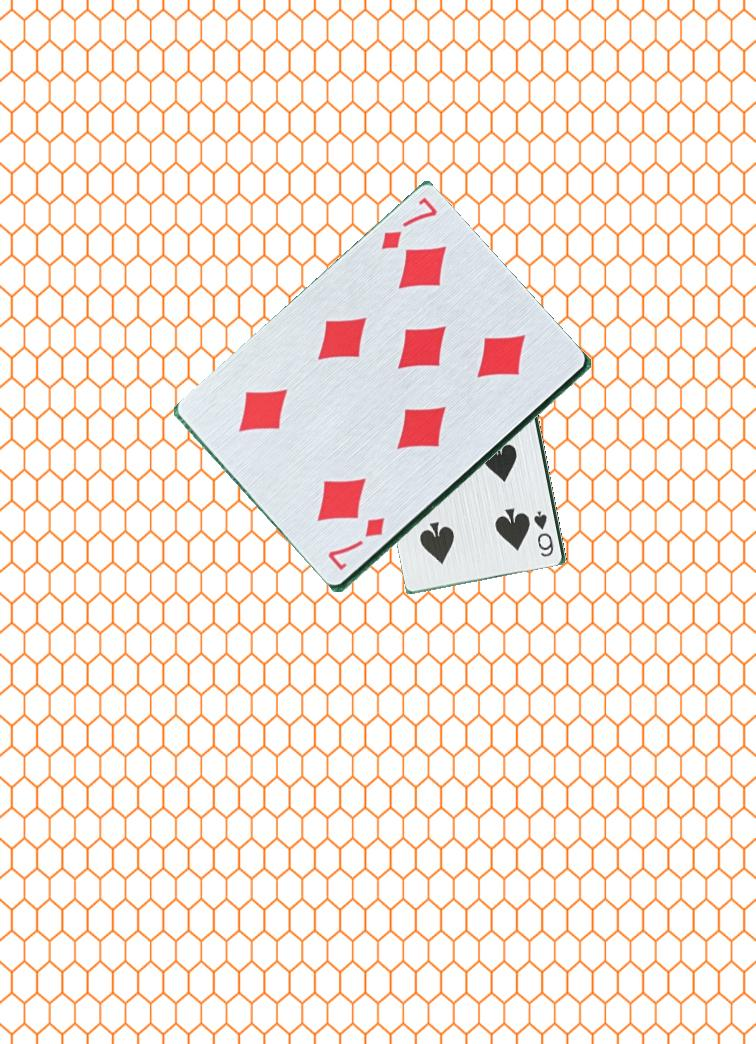6s: (531, 507, 557, 560)
7d: (377, 186, 441, 264), (325, 513, 391, 575)
